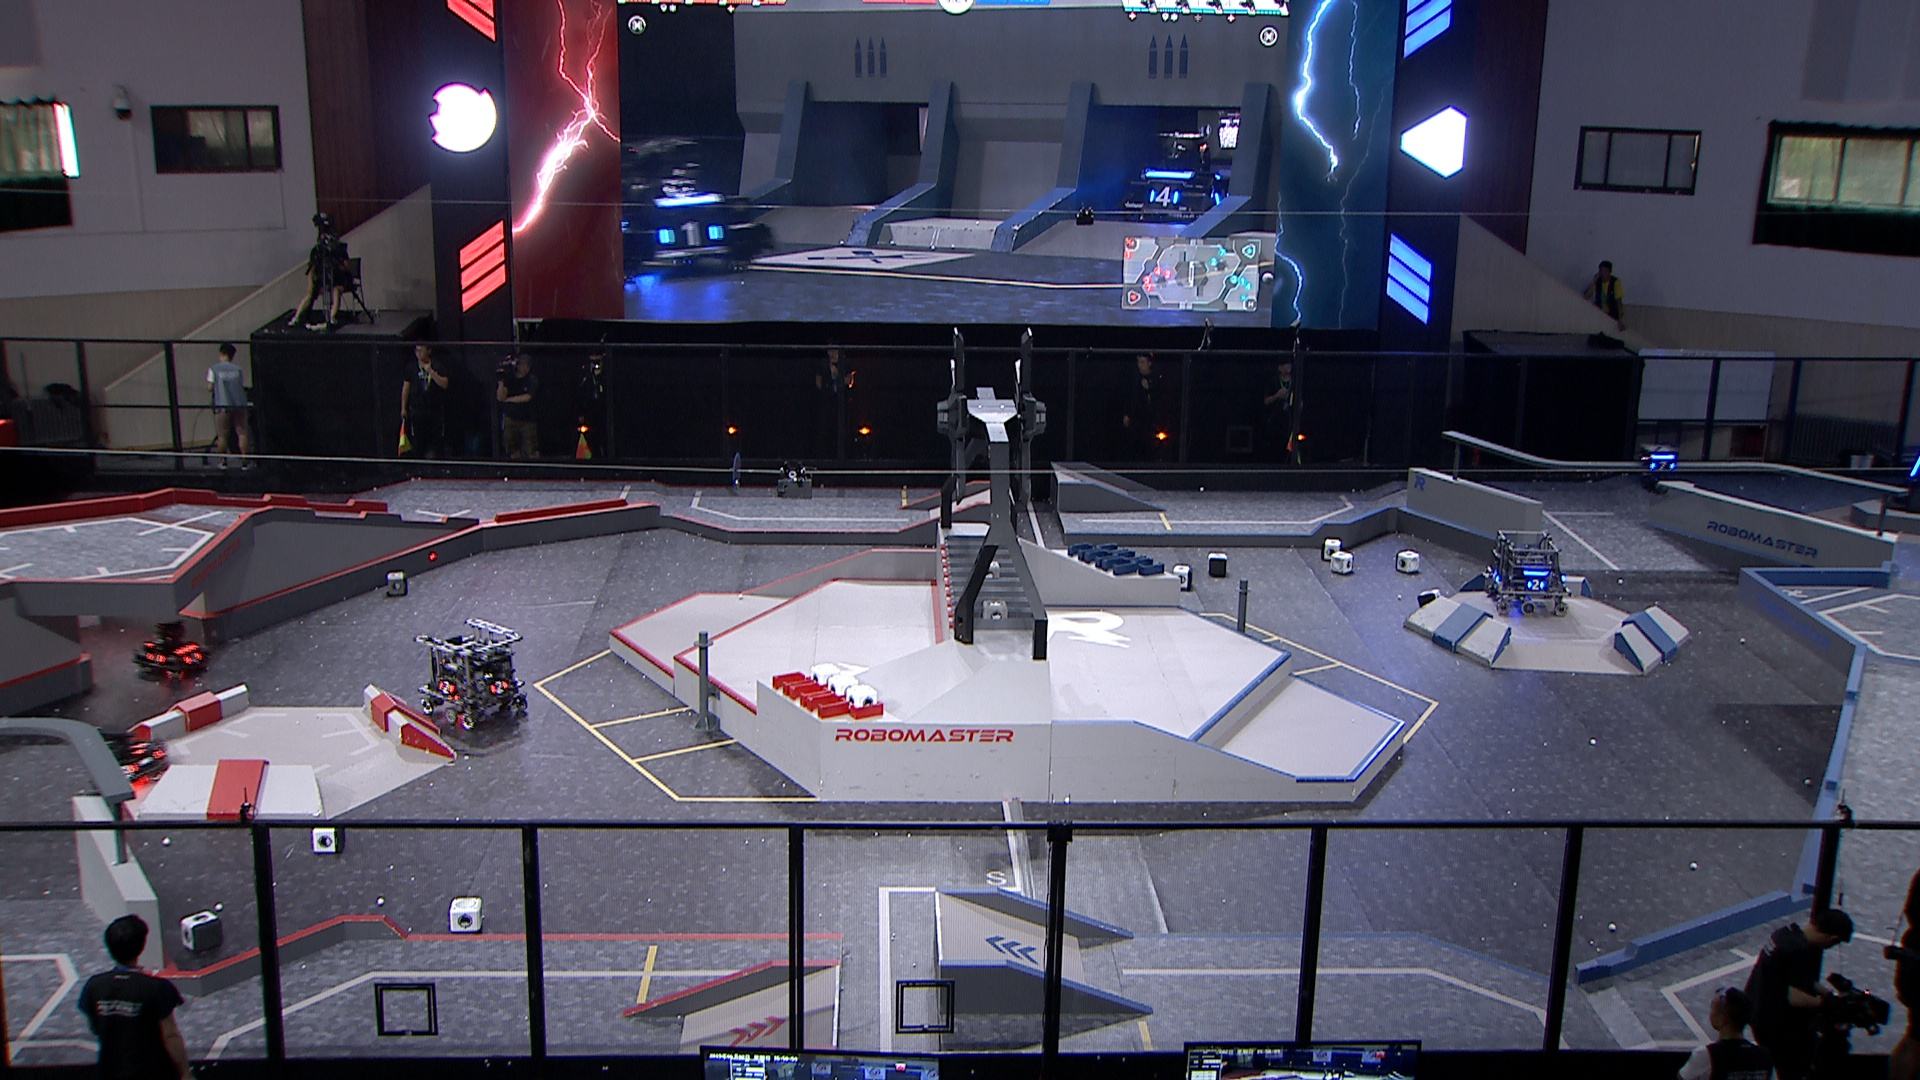armor: (1907, 447, 1920, 480), (117, 757, 135, 779), (436, 680, 456, 698), (183, 647, 200, 666), (489, 678, 509, 694), (1651, 462, 1676, 473), (131, 738, 146, 757), (146, 651, 166, 665), (1487, 567, 1501, 584), (1527, 576, 1544, 589), (145, 636, 164, 647)
base: (1878, 419, 1920, 517)
car: (414, 613, 527, 731), (1480, 529, 1575, 615), (83, 723, 174, 796), (131, 617, 211, 679)
ignore: (611, 135, 775, 278), (1116, 129, 1224, 225)
watcher: (1633, 440, 1680, 500)
